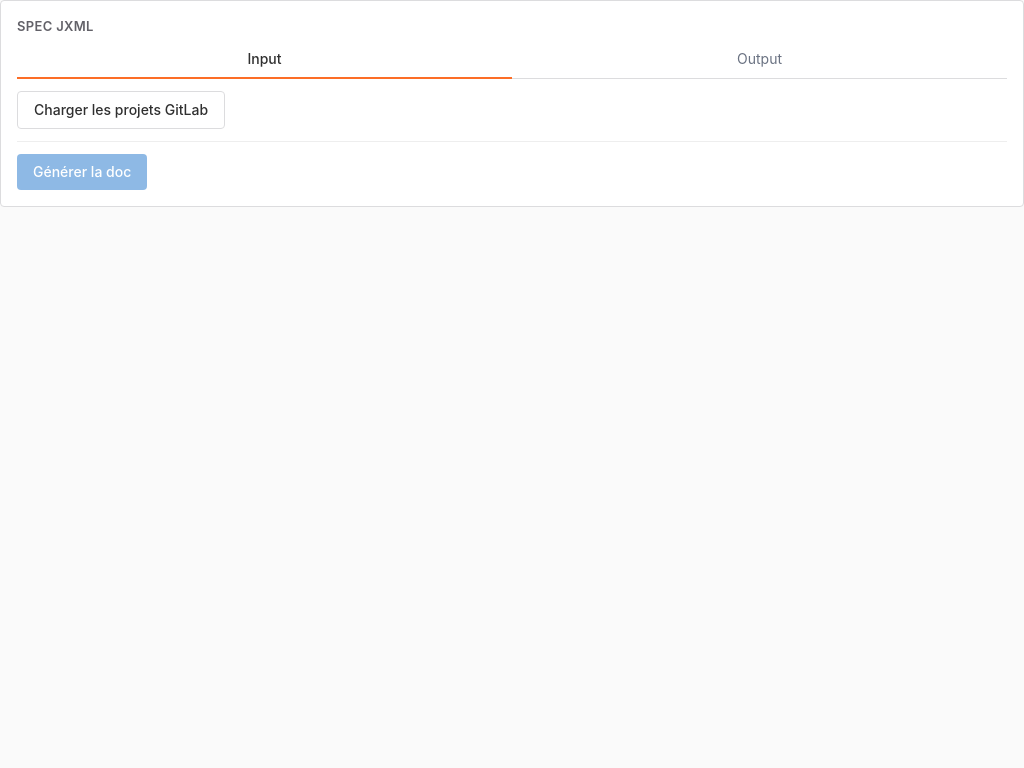
CodePanel › shows the preview button only once an entry point is chosen, and opens the resolved JXML
Click the button "Charger les projets GitLab" at (121, 110), box [17,90,225,128]
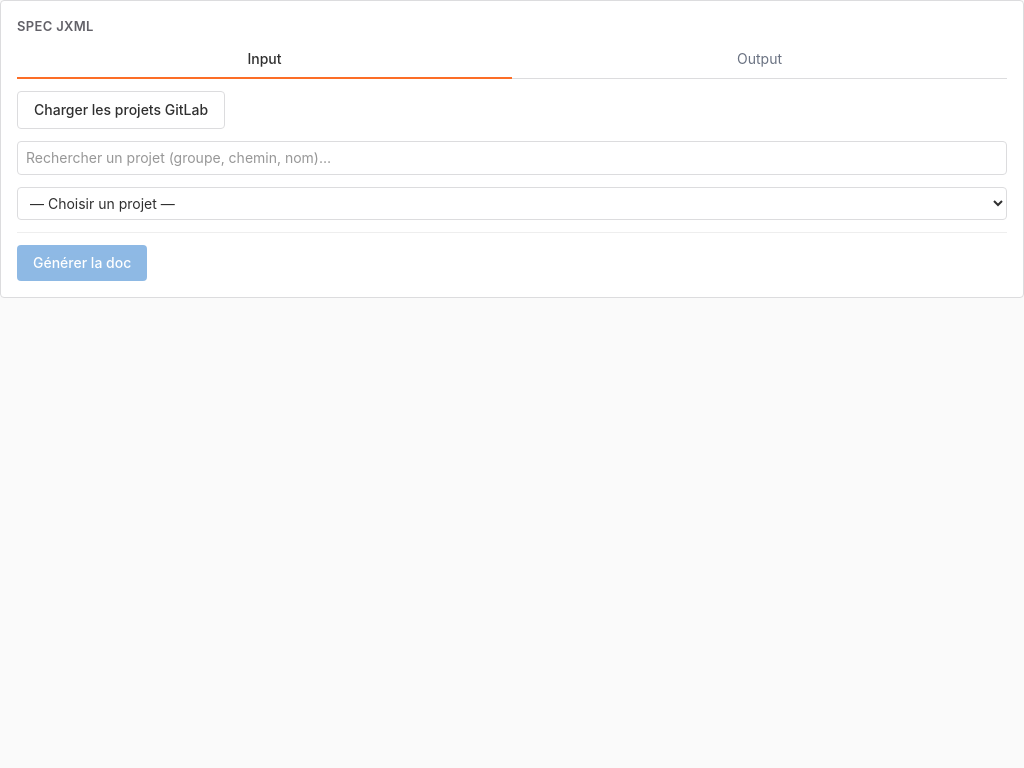
expect the dropdown is shown: met
Select "[jway-forms] jway-forms/onboarding-kyc" in the dropdown at (512, 203), box [17,186,1007,220]
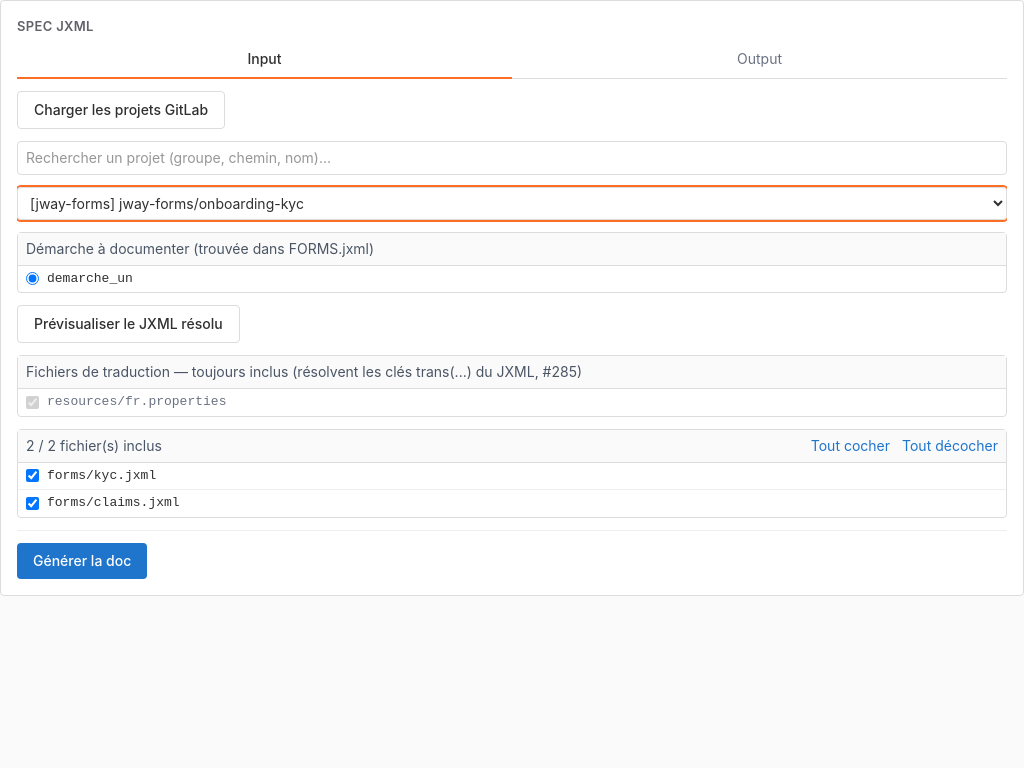
expect the text "demarche_un" is shown: met, box [47,270,133,288]
Click the button "Prévisualiser le JXML résolu" at (128, 324), box [17,305,240,343]
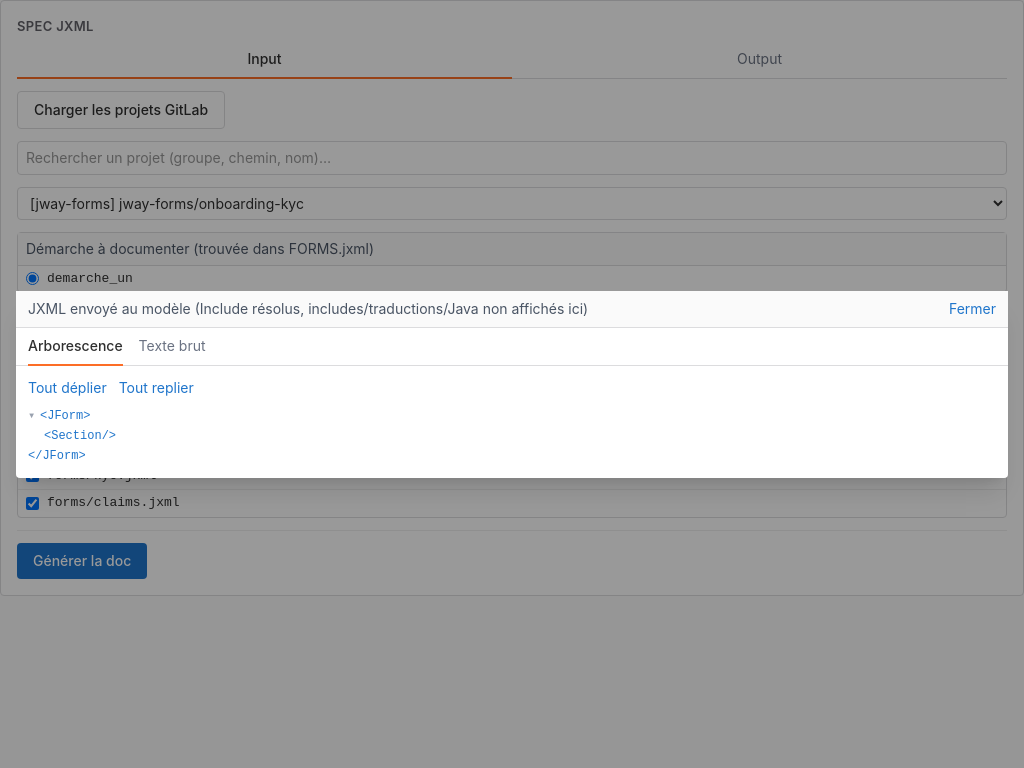
expect the text "JXML envoyé au modèle" is shown: met, box [28,300,588,316]
expect the text "JForm" is shown: met, box [47,408,83,422]
expect the text "Section" is shown: met, box [51,428,102,442]
